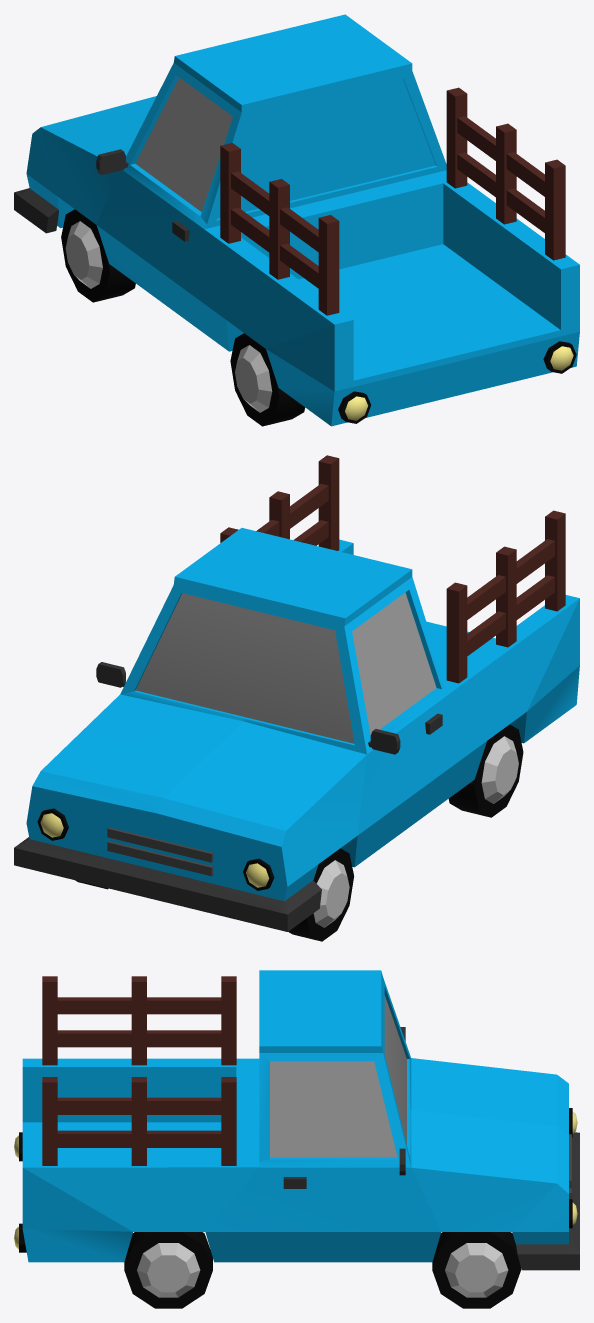
Rendered from car_2.FBX.
3 views of the same model, one above another, from view 1: azimuth 30°, elevation 25°; view 2: azimuth 150°, elevation 25°; view 3: azimuth 270°, elevation 25° (orthographic). The views are drawn at different scales.
Parts seen in each view (by area): view 1: car_2; view 2: car_2; view 3: car_2.
Part boxes in pixels (x1,y1,x2,y2): car_2: (14,14,579,426); car_2: (14,455,579,941); car_2: (14,970,579,1308).
Size of the model in its own units: 2.42 by 2.08 by 4.34.
2 materials, 1 textured.
